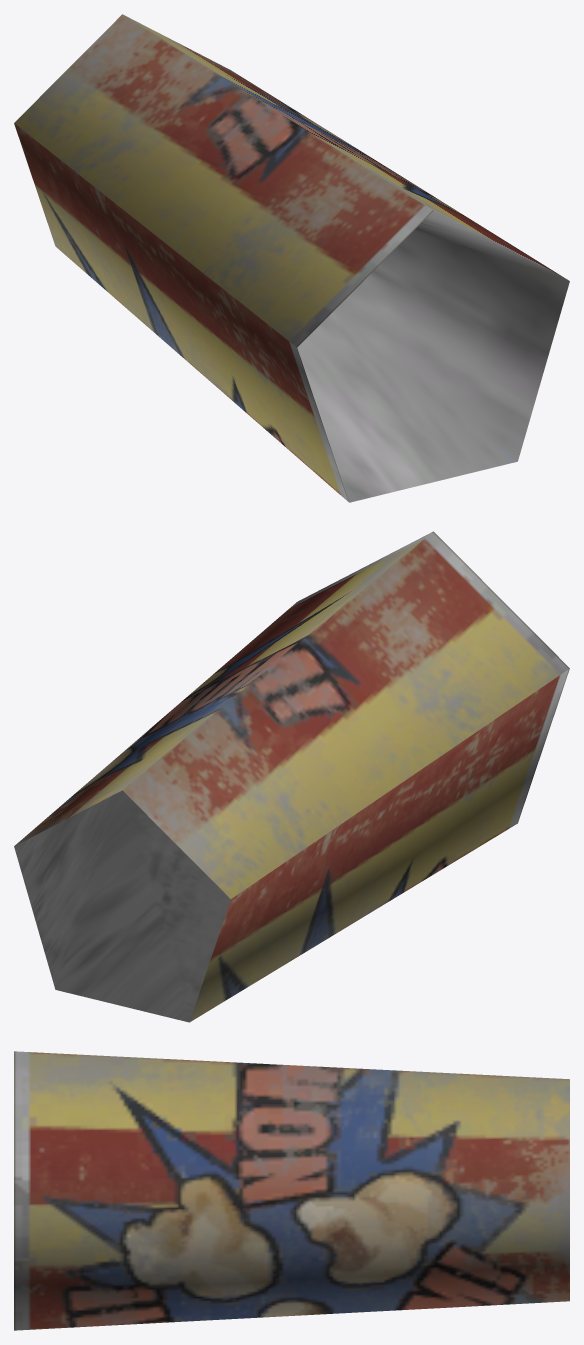
File: popcorn_cup_single_LOD1.obj
The picture shows the model from 3 angles, top to bottom: view 1: azimuth 30°, elevation 25°; view 2: azimuth 150°, elevation 25°; view 3: azimuth 270°, elevation 25°; orthographic projection. The views are drawn at different scales.
Parts seen in each view (by area): view 1: mtl_pocorn_cup; view 2: mtl_pocorn_cup; view 3: mtl_pocorn_cup.
Part boxes in pixels (box(x1,y1,x2,y2)): mtl_pocorn_cup: box(14, 14, 569, 502); mtl_pocorn_cup: box(14, 531, 569, 1022); mtl_pocorn_cup: box(14, 1051, 569, 1330).
Size of the model in its own units: 12.8 by 12.17 by 25.29.
